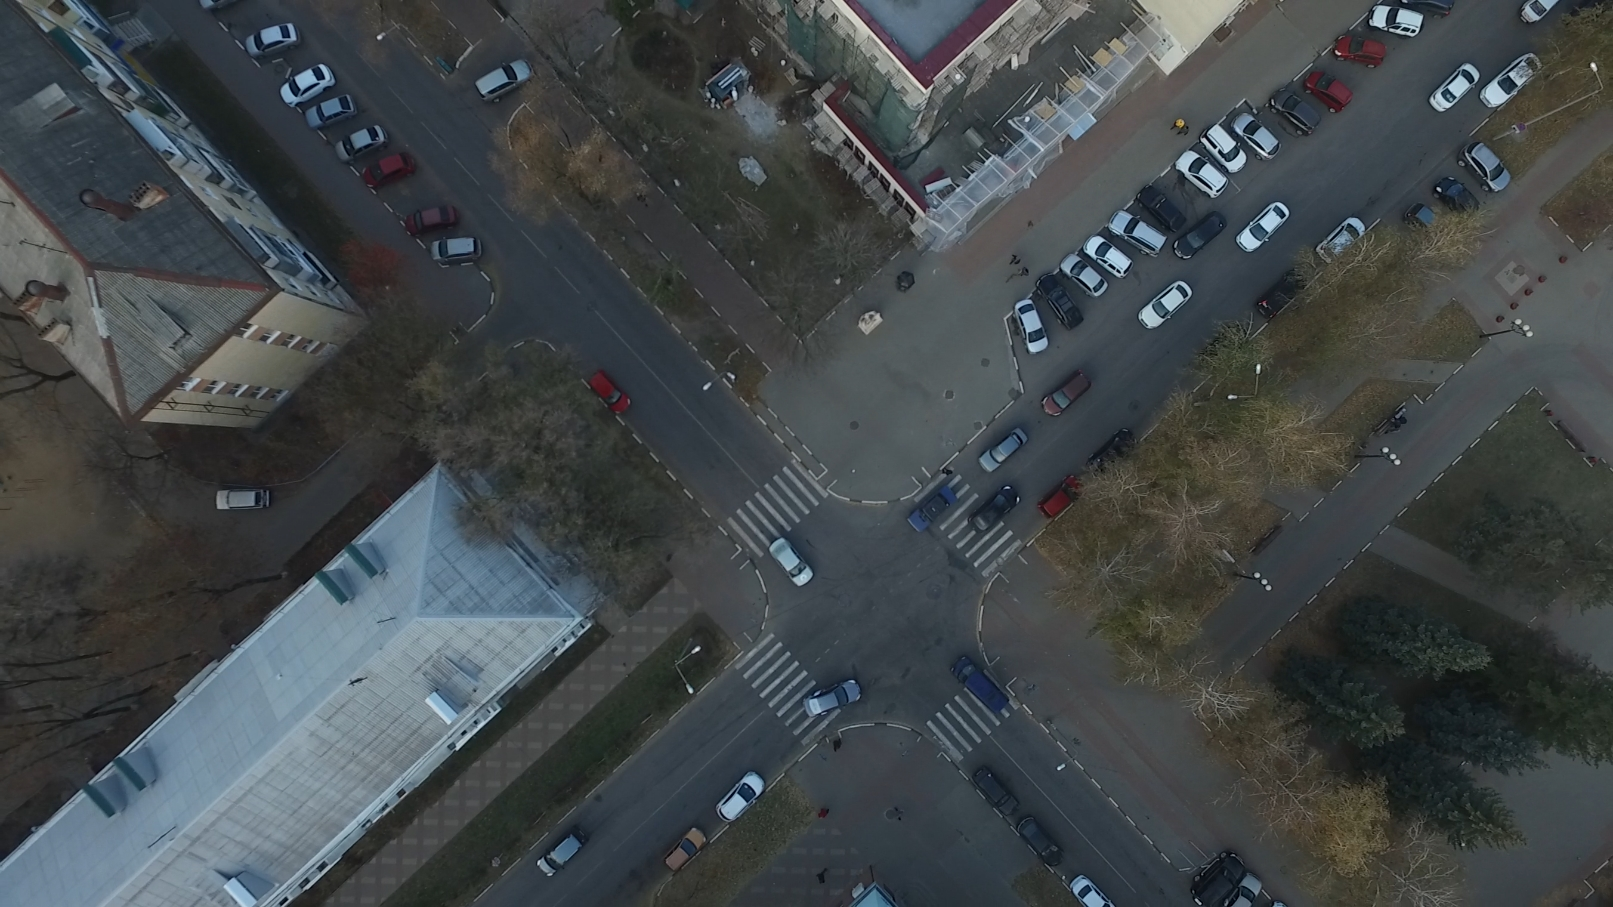car: (1479, 49, 1544, 109), (951, 652, 1009, 713), (1186, 852, 1246, 906), (1231, 200, 1292, 254), (1109, 208, 1168, 262), (1456, 141, 1513, 194), (533, 829, 590, 882), (1136, 278, 1195, 328), (712, 771, 768, 824), (1172, 212, 1231, 260), (1177, 157, 1232, 208), (1254, 274, 1312, 322), (475, 60, 542, 102), (1313, 217, 1371, 262), (279, 63, 338, 109), (1428, 63, 1480, 114), (970, 481, 1024, 530), (975, 427, 1029, 476), (1036, 274, 1083, 329), (1059, 255, 1111, 305), (1231, 112, 1280, 165), (1083, 430, 1139, 476), (1085, 234, 1134, 285), (1270, 86, 1317, 140), (972, 767, 1018, 821), (907, 486, 962, 532), (1040, 372, 1095, 418), (1430, 175, 1480, 224), (1016, 813, 1064, 864), (1134, 182, 1186, 228), (802, 677, 861, 718), (1303, 68, 1352, 116), (1199, 125, 1249, 173), (767, 537, 812, 588), (1032, 473, 1086, 516), (333, 123, 389, 164), (244, 19, 298, 60), (661, 825, 709, 870), (1369, 1, 1420, 42), (589, 365, 633, 413), (299, 95, 355, 132), (1013, 300, 1048, 357), (1334, 33, 1384, 72), (361, 156, 418, 189), (1403, 200, 1446, 241), (214, 485, 268, 512), (431, 235, 483, 262), (1069, 876, 1114, 907), (405, 208, 459, 234), (1518, 1, 1565, 23), (1412, 1, 1456, 21)
